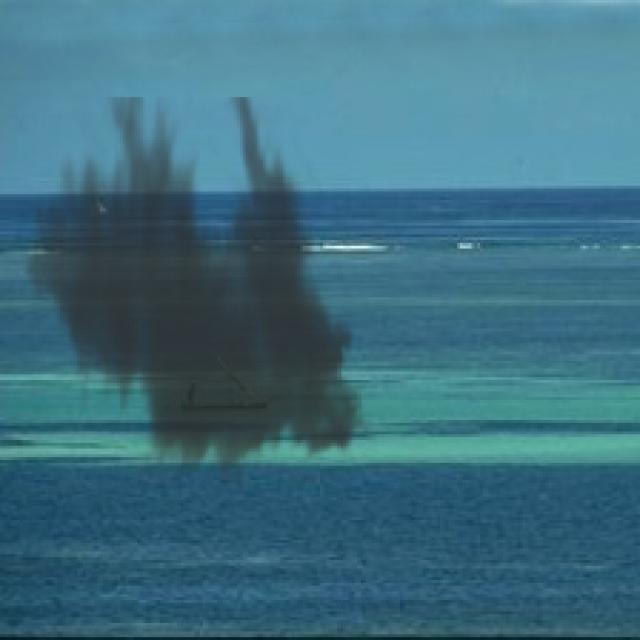smoke: (14, 97, 380, 492)
